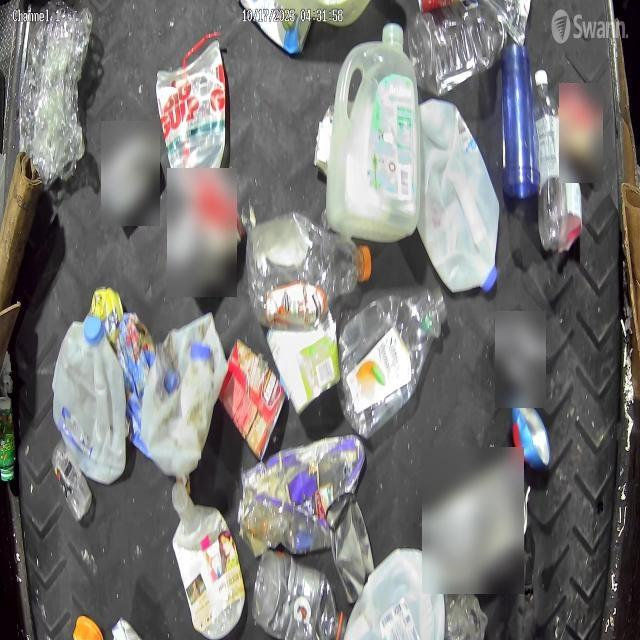milk_jug: (327, 23, 418, 244), (418, 99, 500, 294), (140, 313, 228, 477), (53, 316, 129, 480), (172, 484, 244, 638), (340, 548, 445, 640)
non_white_jug: (238, 435, 366, 557)
plastic_bottle: (338, 290, 448, 434), (246, 212, 371, 328), (410, 0, 510, 96), (253, 552, 346, 640), (533, 70, 567, 252)
